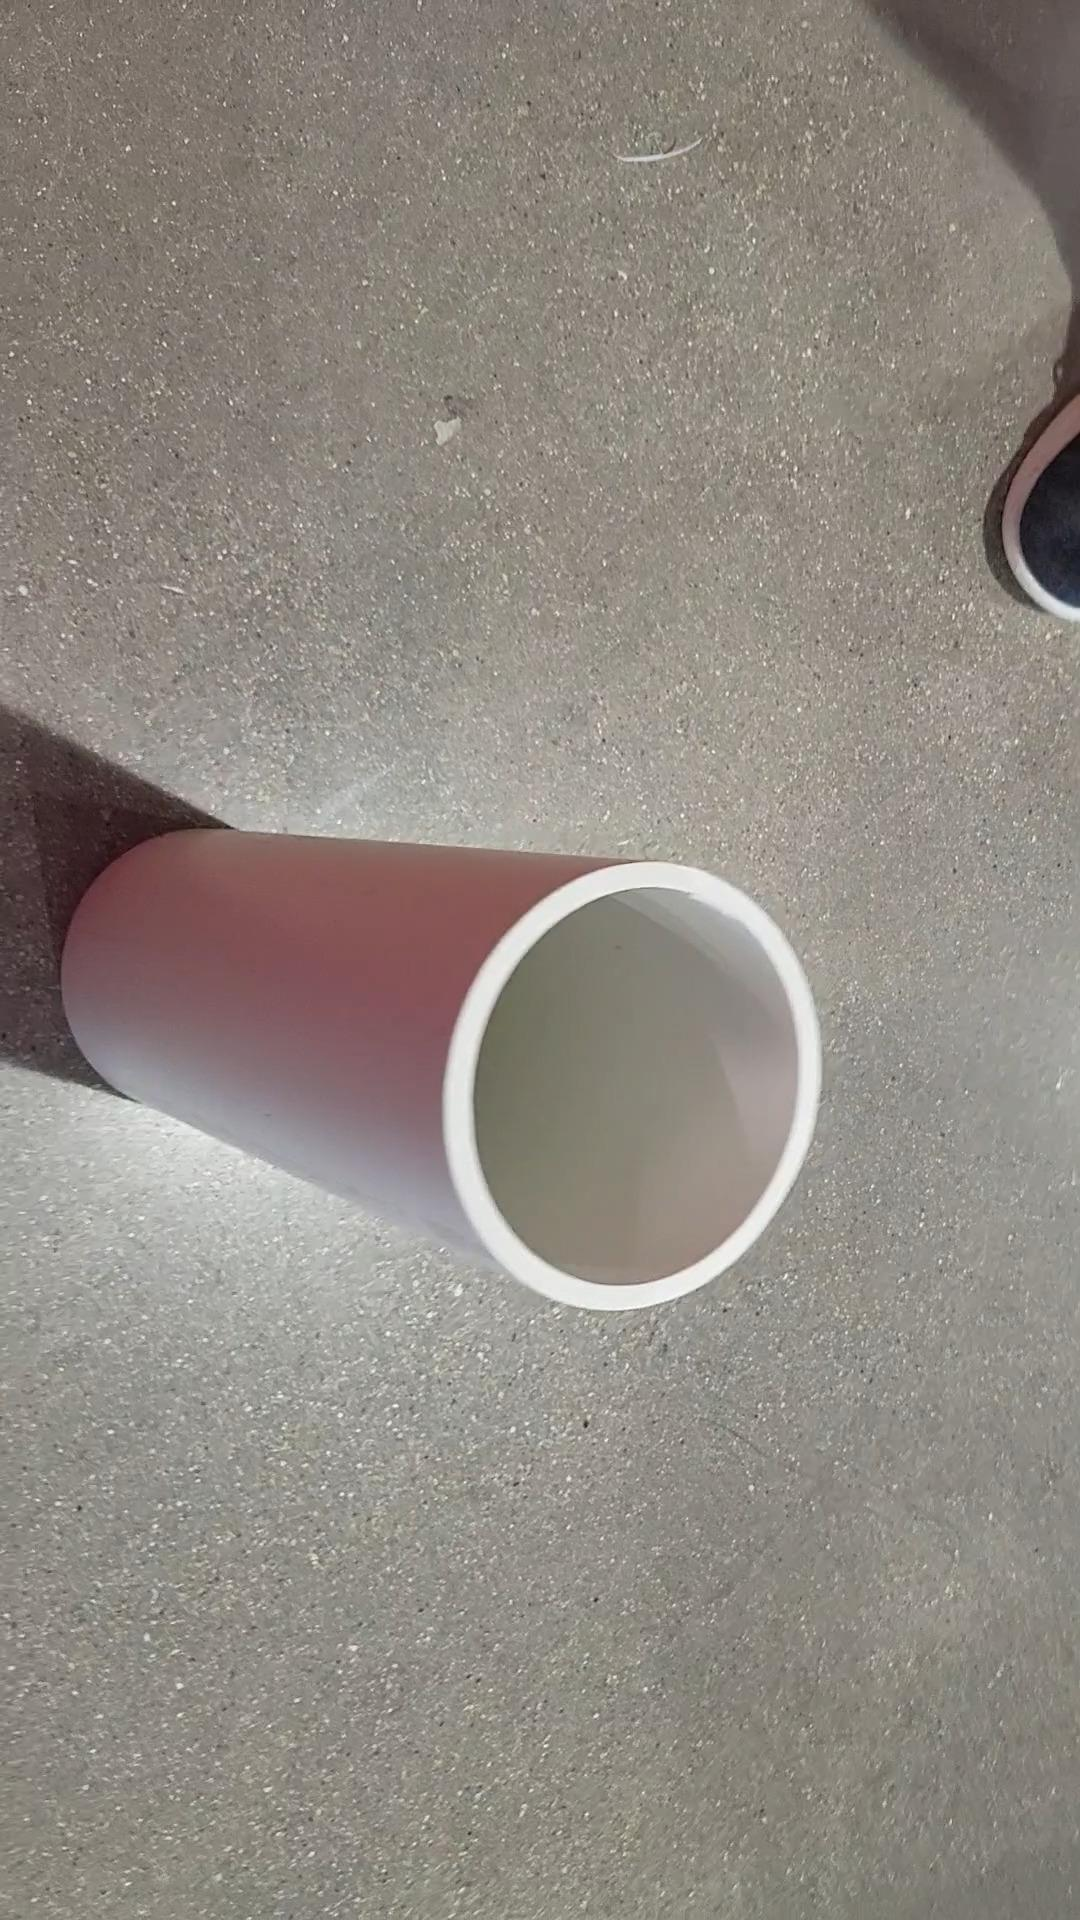coral: (70, 821, 817, 1320)
